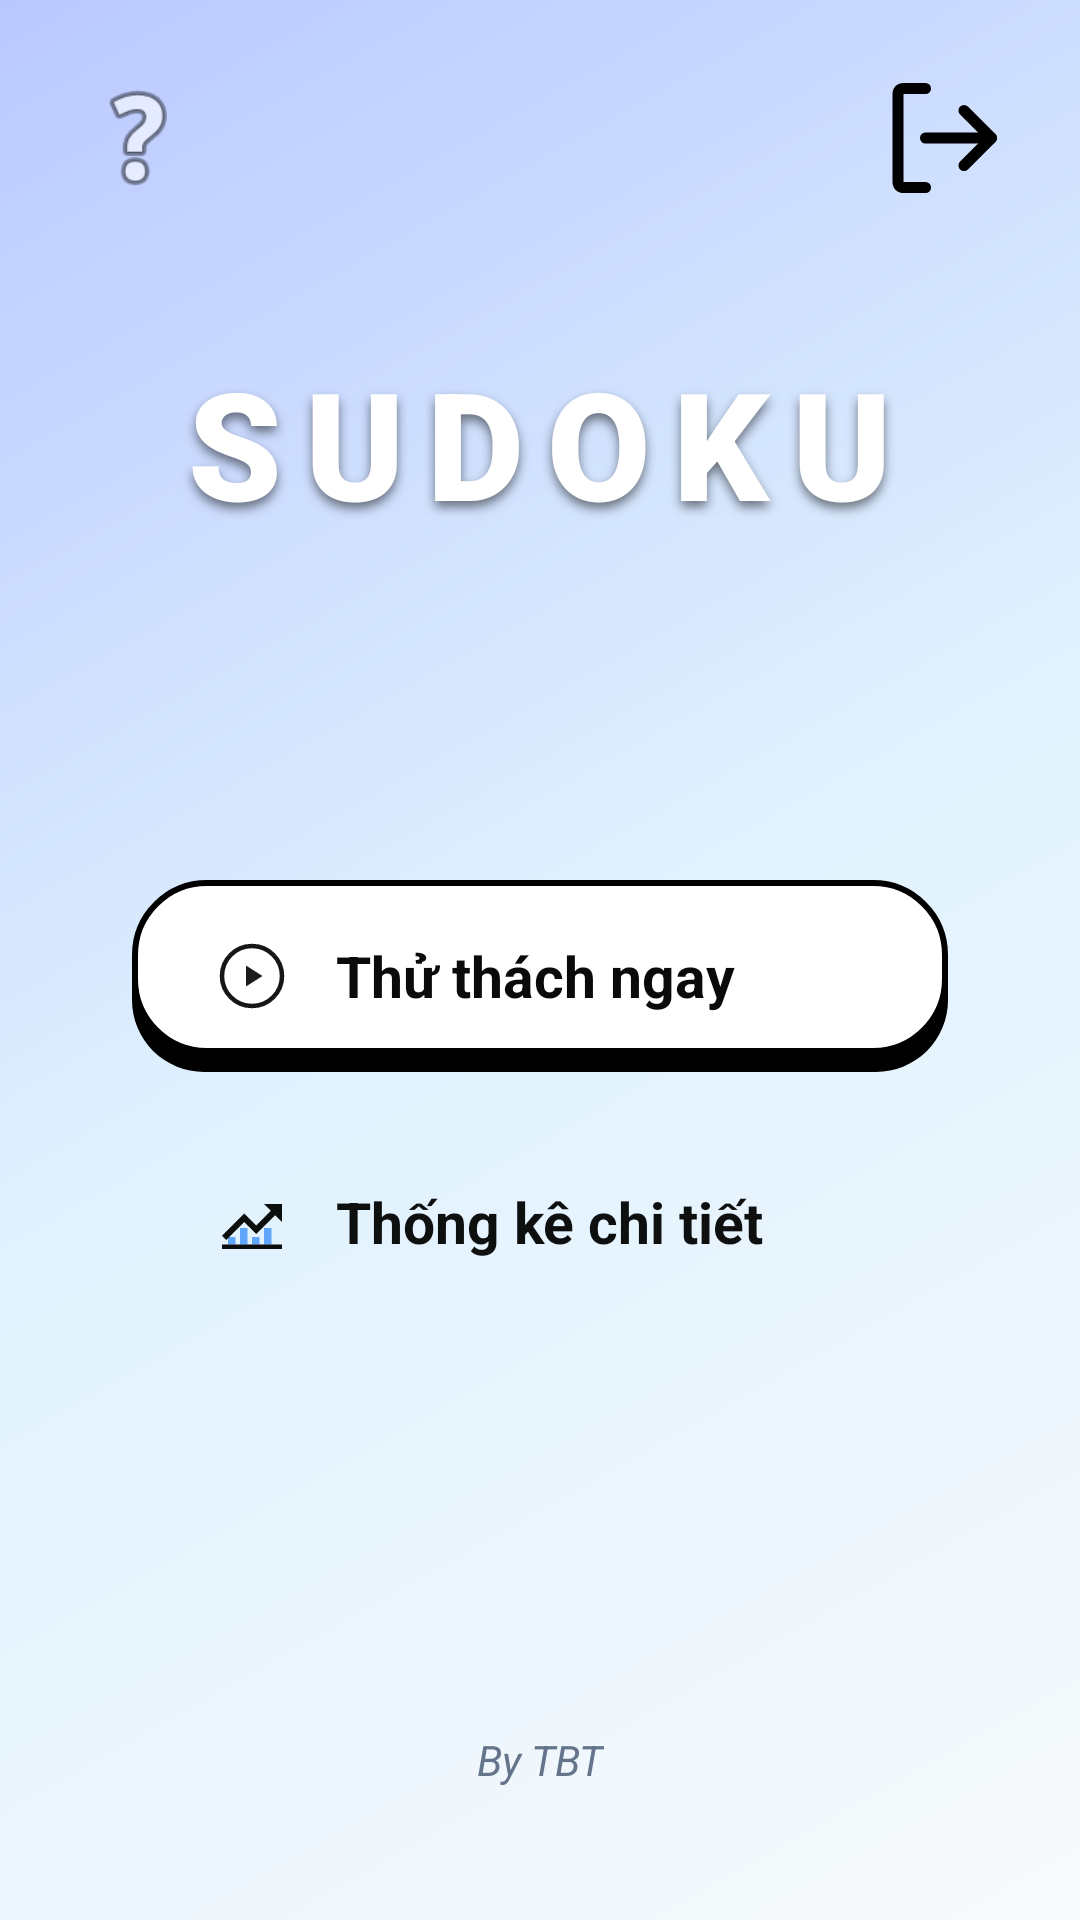

Screen size 1080w x 1920h. Icon name, then its center in pixels as [x,y]:
help: [138,138]
